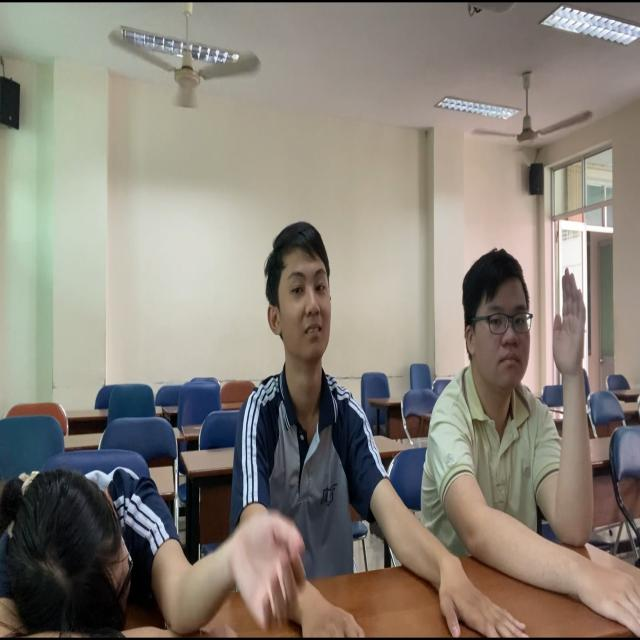raise_hand: (441, 250, 593, 622)
sleep: (1, 469, 301, 640)
